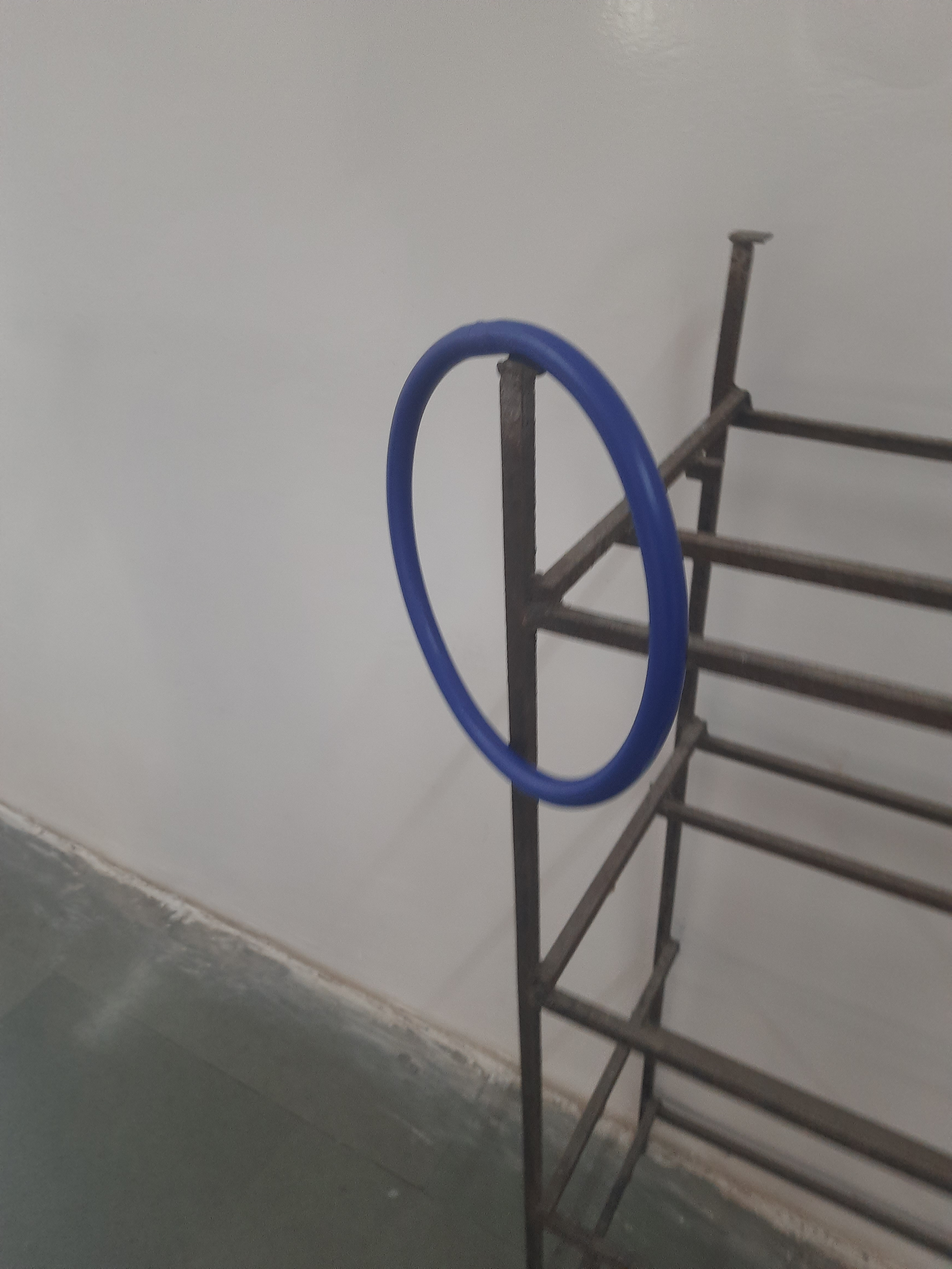Blue ring: (386, 323, 680, 806)
